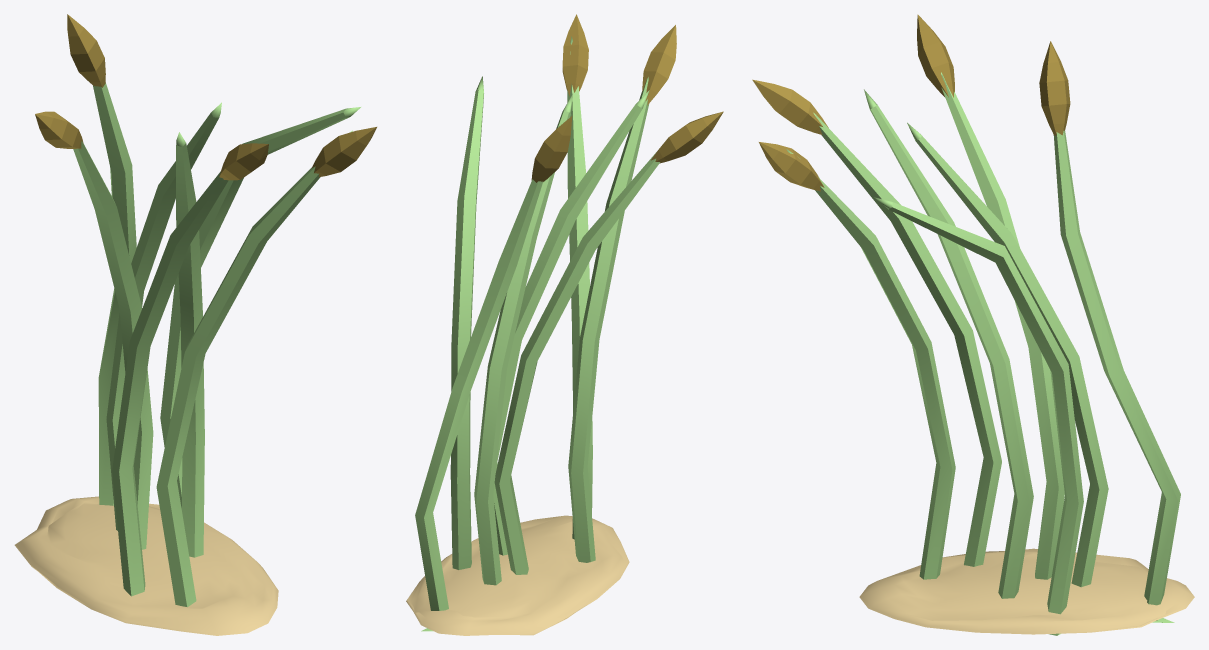
File: grass.fbx
3 views of the same model, side by side, from view 1: azimuth 30°, elevation 25°; view 2: azimuth 150°, elevation 25°; view 3: azimuth 270°, elevation 25° (orthographic). The views are drawn at different scales.
Parts seen in each view (by area): view 1: pSphere7; view 2: pSphere7; view 3: pSphere7.
Boxes of the visible parts, left/top/right/bottom form: pSphere7: left=14, top=14, right=376, bottom=635; pSphere7: left=406, top=14, right=723, bottom=635; pSphere7: left=752, top=14, right=1194, bottom=635.
Bounding box in the file's own units: 3.13 × 5.73 × 4.27.
